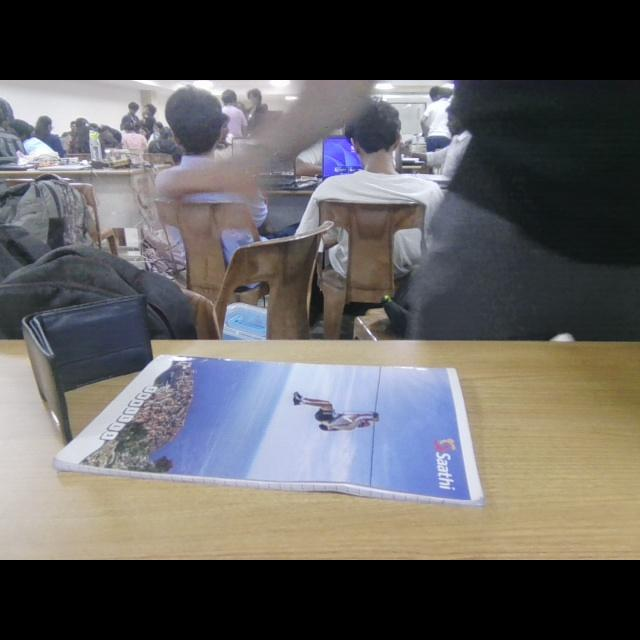wallet: (1, 293, 177, 439)
